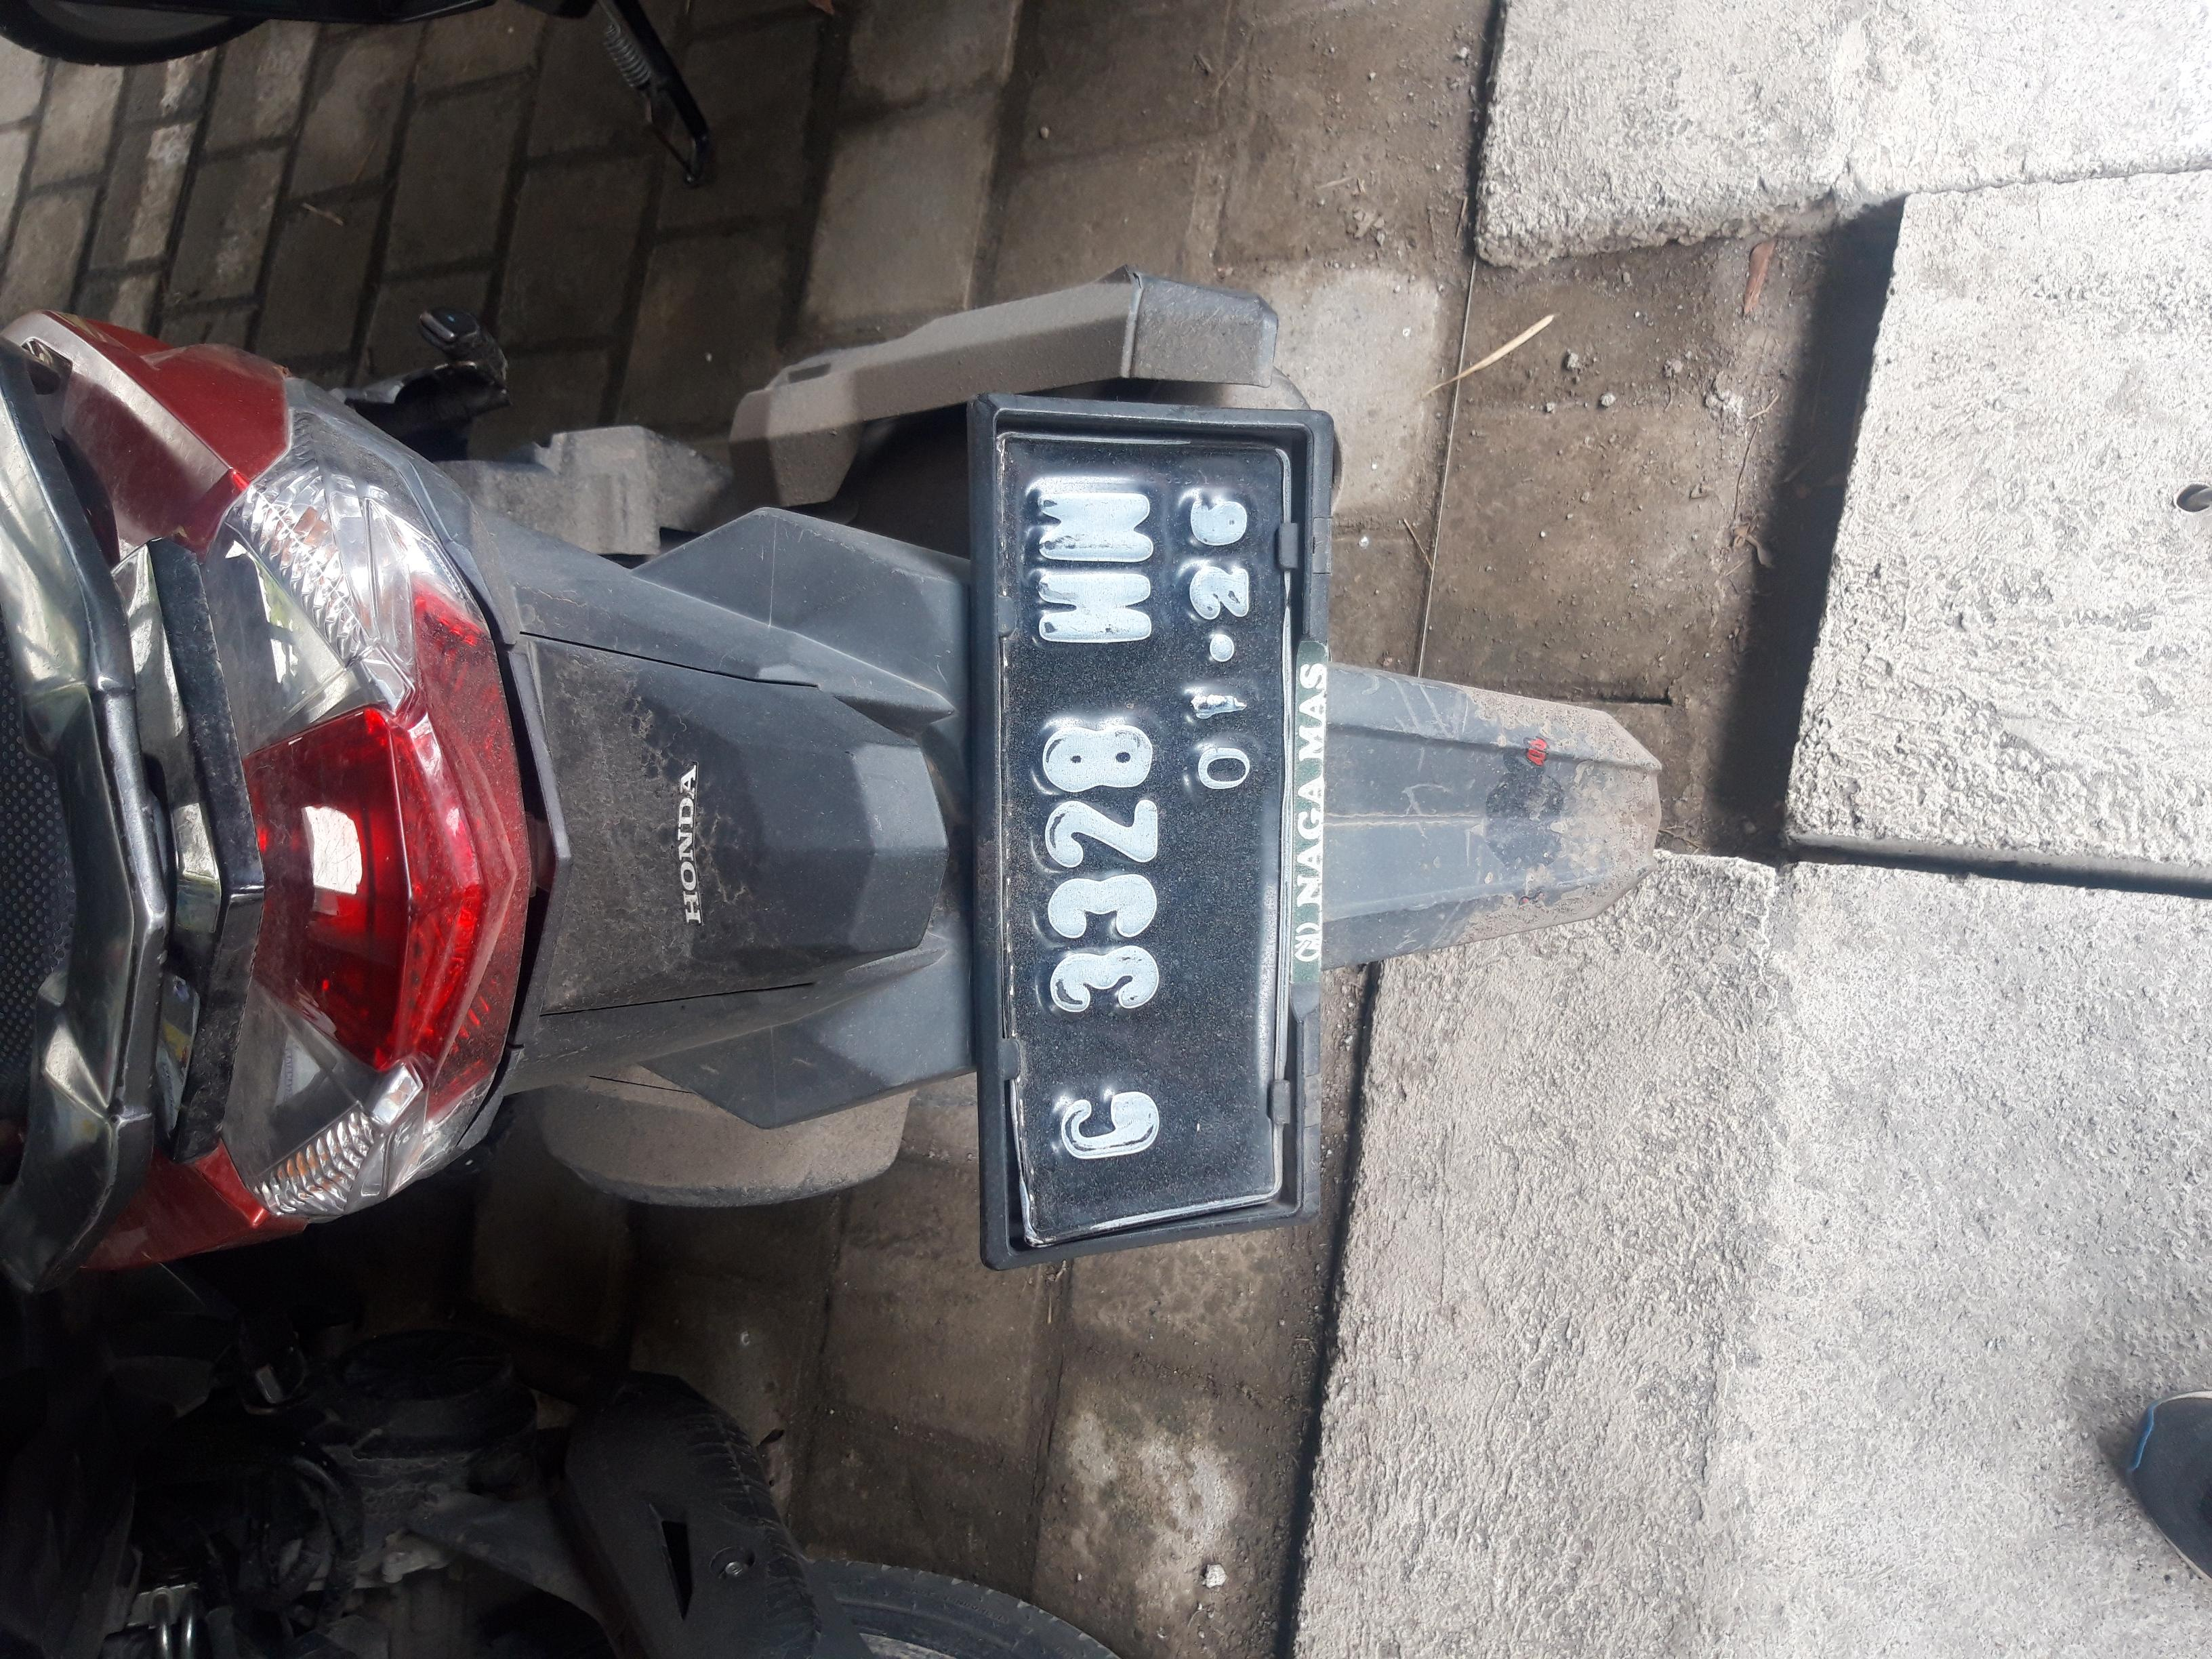plat: (561, 751, 1644, 971)
